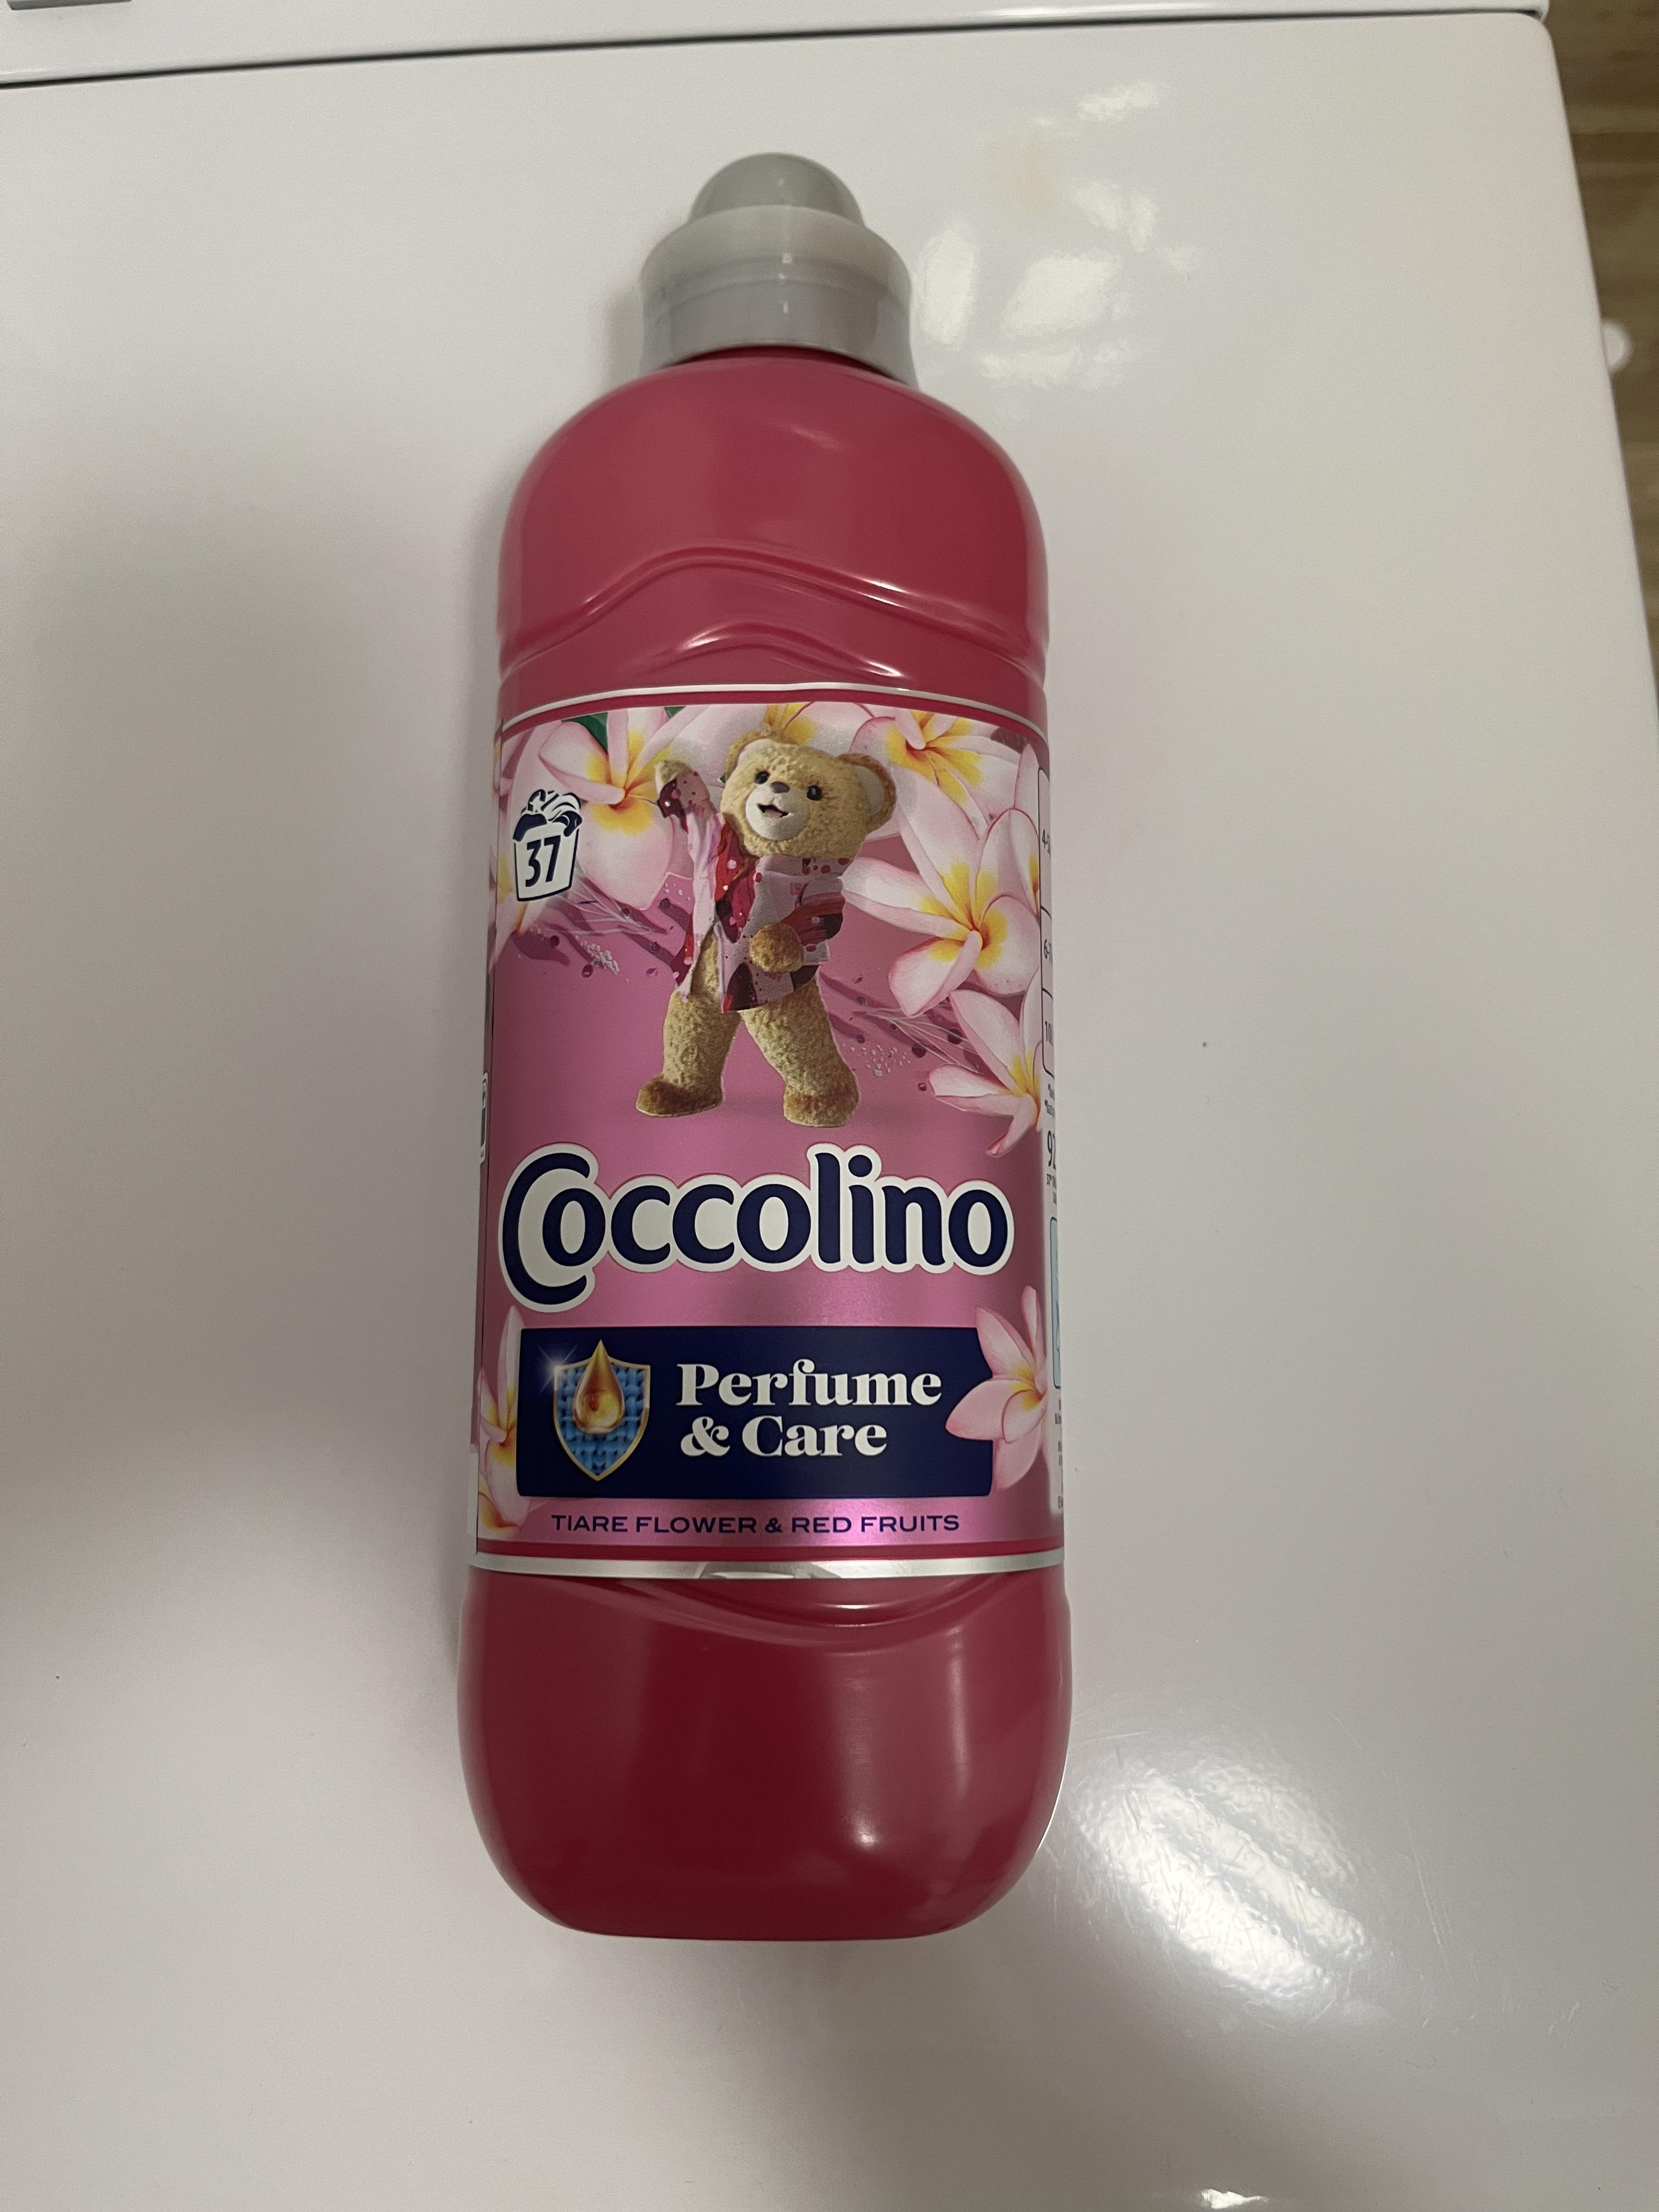cocolino: (484, 364, 1065, 1965)
